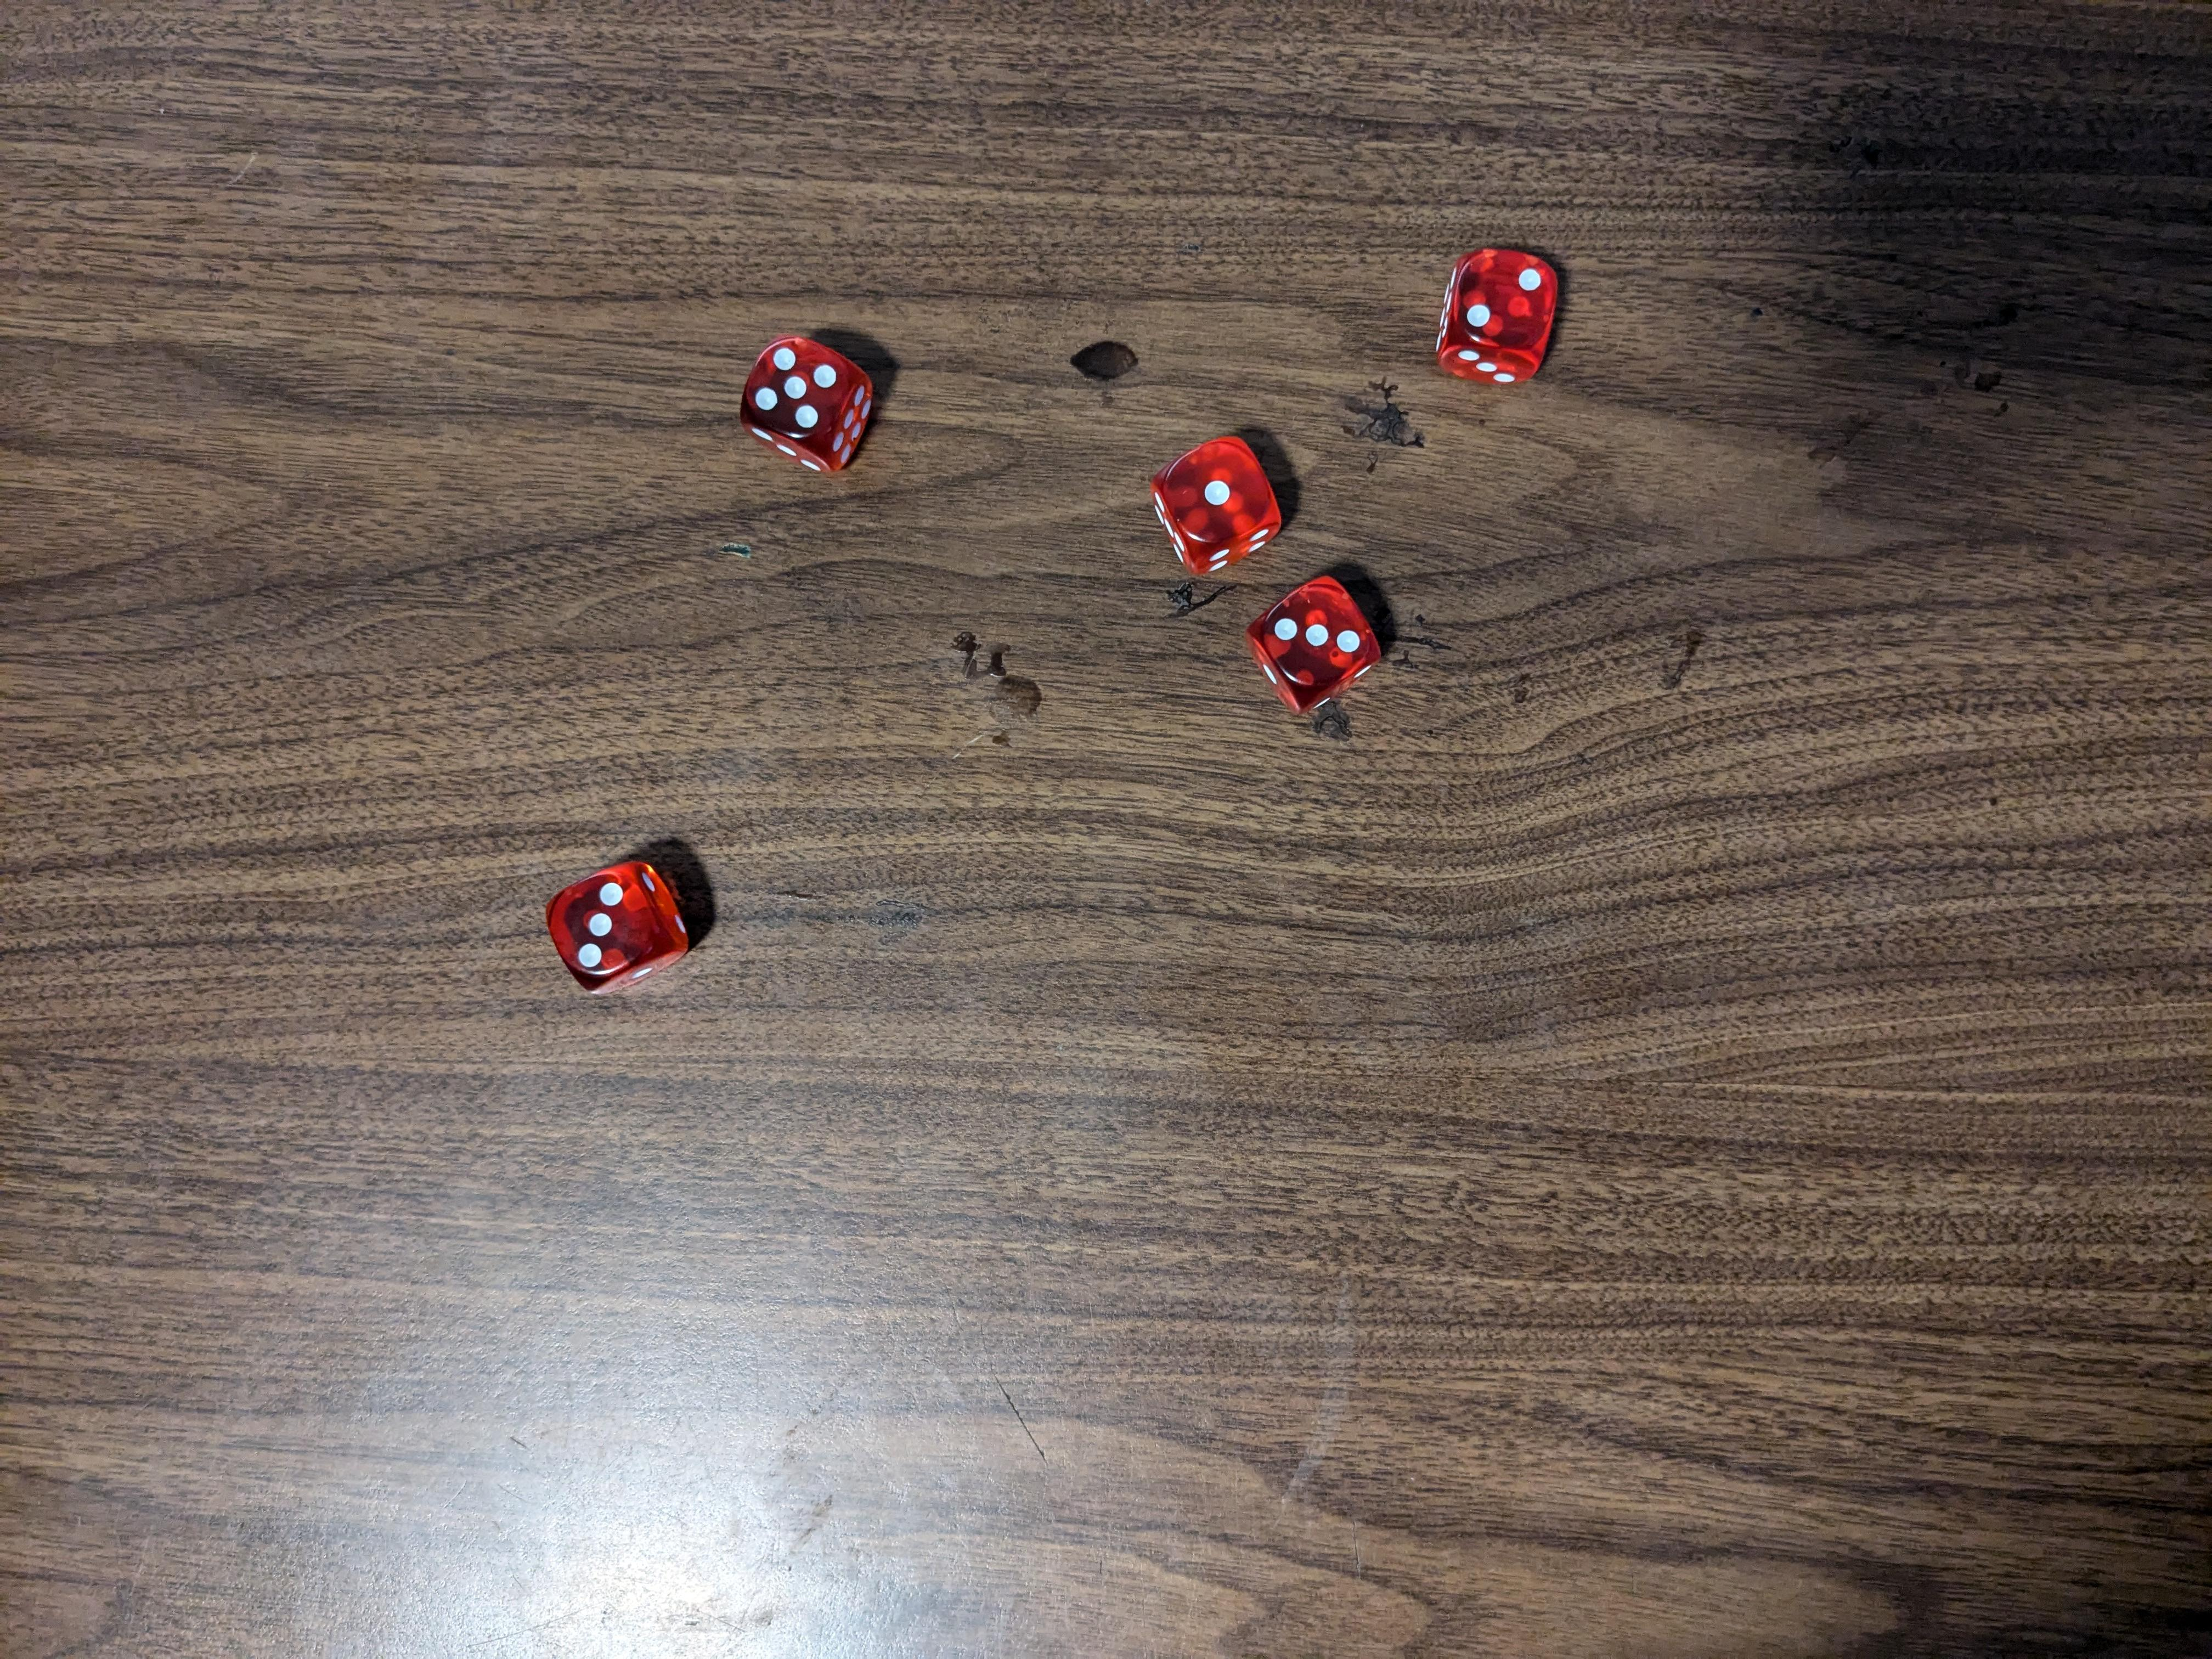five: (735, 335, 888, 476)
one: (1148, 430, 1284, 572)
three: (1245, 566, 1392, 716), (549, 863, 695, 997)
two: (1435, 244, 1561, 394)
